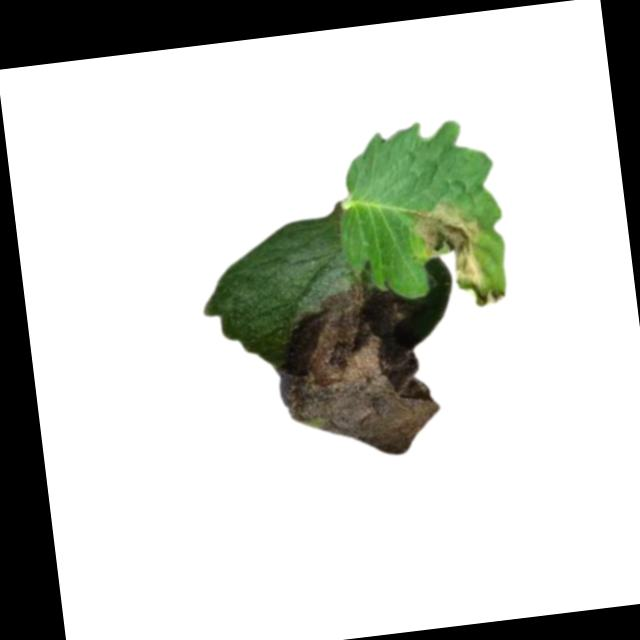Late_blight: (266, 279, 455, 469), (406, 197, 508, 317)
